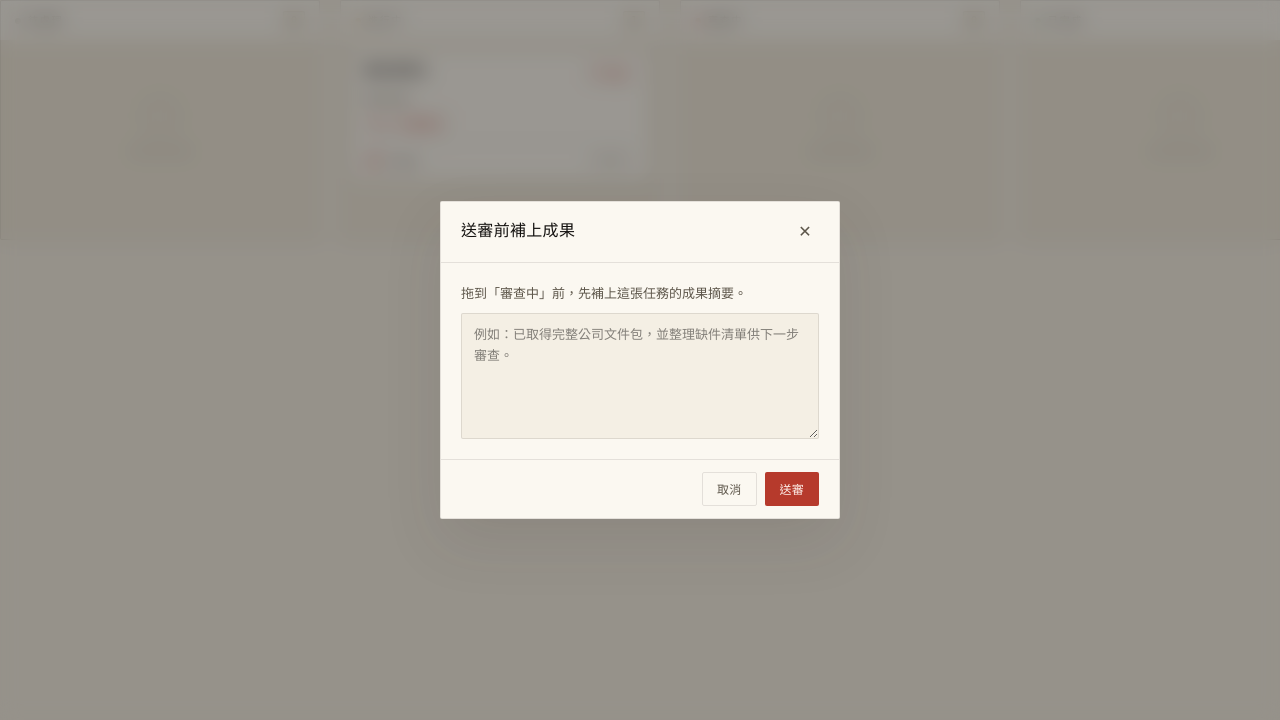
Test: TaskBoard drag selection guard › asks for result when dragging into review instead of opening the drawer
expect the heading "送審前補上成果" is shown: met, box [461,221,575,242]
In the text box with placeholder "例如：已取得完整公司文件包，並整理缺件清單供下一步審查。": (640, 376) [461,313,819,439], type "已補齊審查摘要"
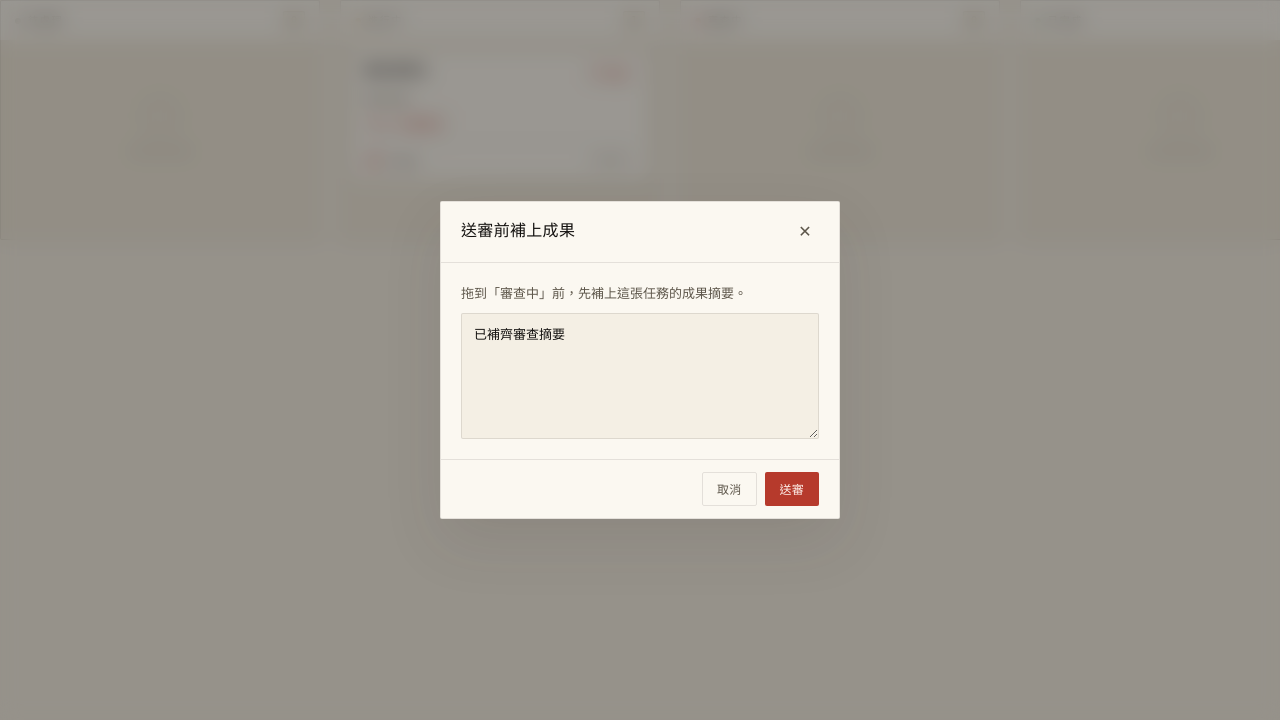
Click the button "送審": (792, 489) [764,472,819,506]
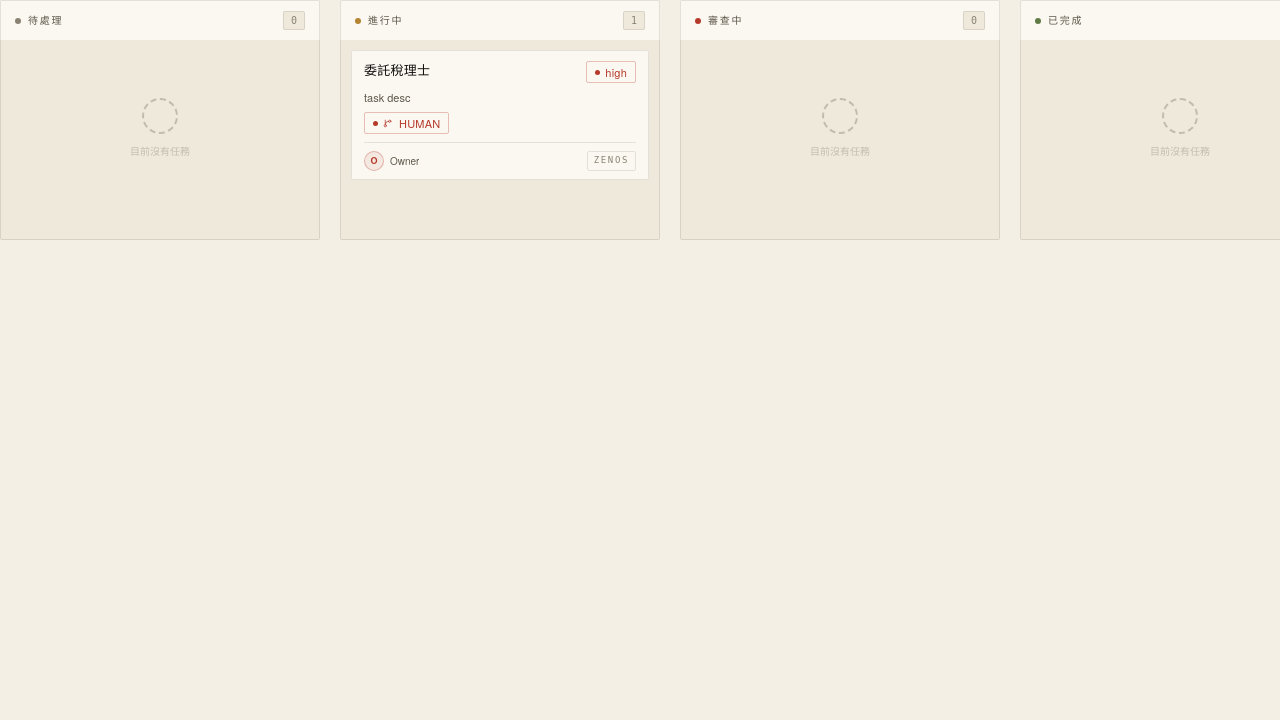
expect the heading "送審前補上成果" is gone: met
